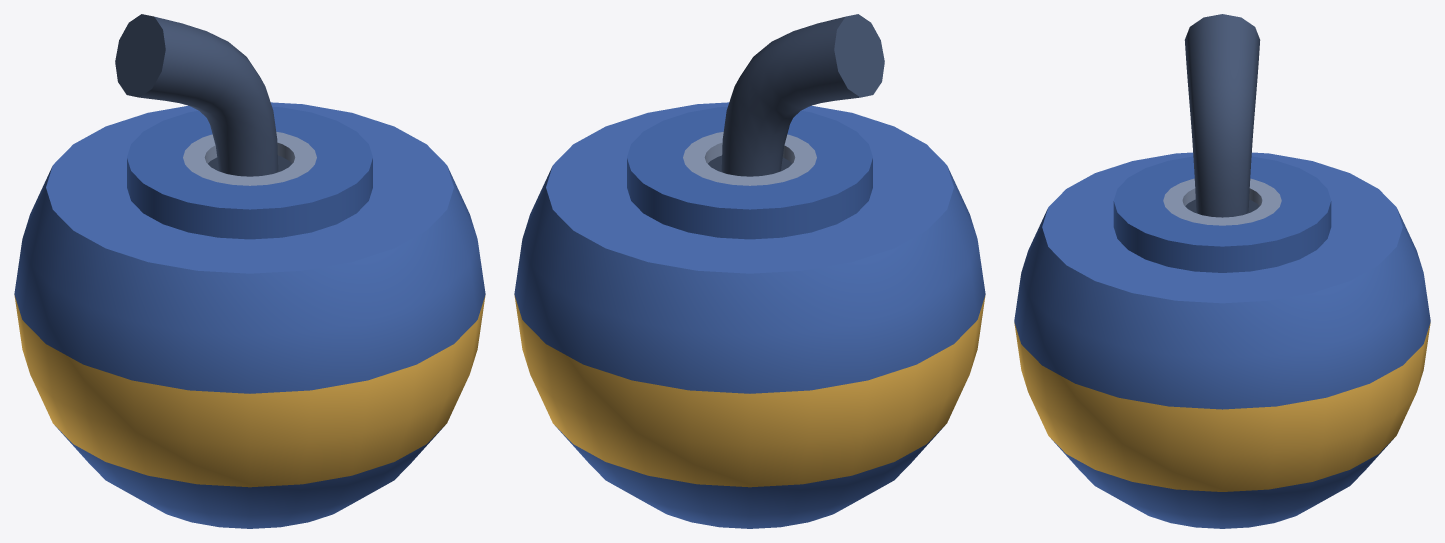
File: Bomb A Multi.fbx
3 renders of one model, left to right at view 1: azimuth 30°, elevation 25°; view 2: azimuth 150°, elevation 25°; view 3: azimuth 270°, elevation 25°, orthographic. The views are drawn at different scales.
Parts seen in each view (by area): view 1: Bomb A; view 2: Bomb A; view 3: Bomb A.
Part boxes in pixels (left/top/right/bottom): Bomb A: left=14, top=14, right=485, bottom=528; Bomb A: left=514, top=14, right=985, bottom=528; Bomb A: left=1014, top=14, right=1430, bottom=528.
Bounding box in the file's own units: 0.6337 × 0.7635 × 0.6337.
